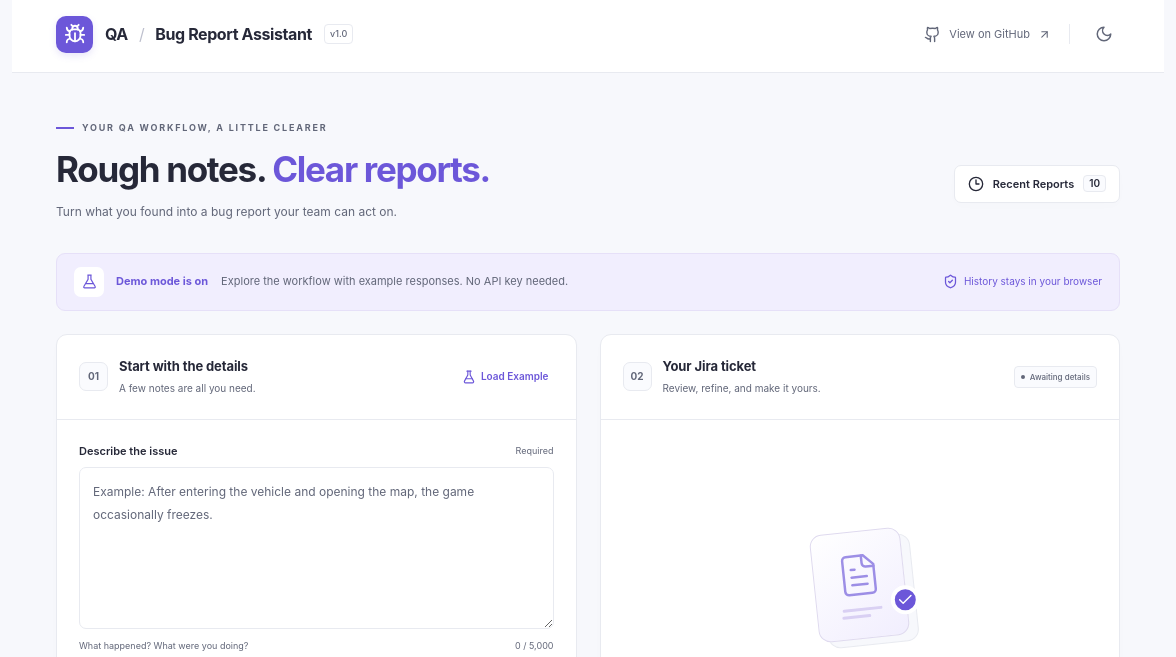
report workflow › retains at most ten reports after generation
Click the button "Load Example". click: (505, 377)
box: [457,364,554,389]
(page scrolled)
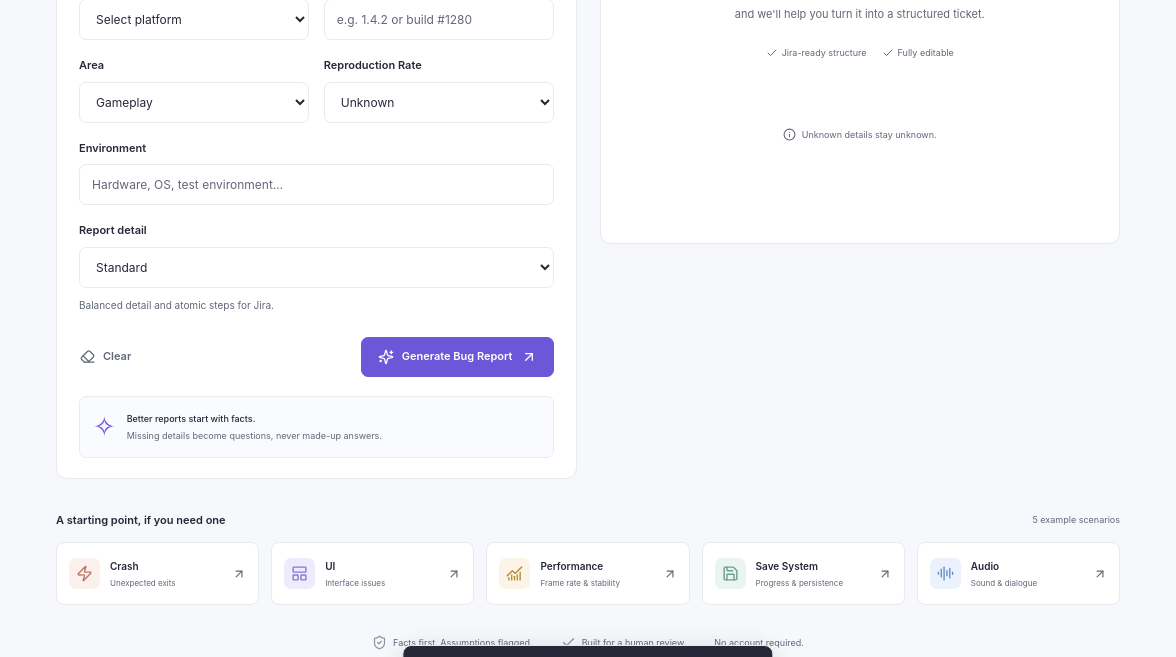
Click the button "Generate Bug Report". click: (457, 357)
box: [361,337,554,377]
(page scrolled)
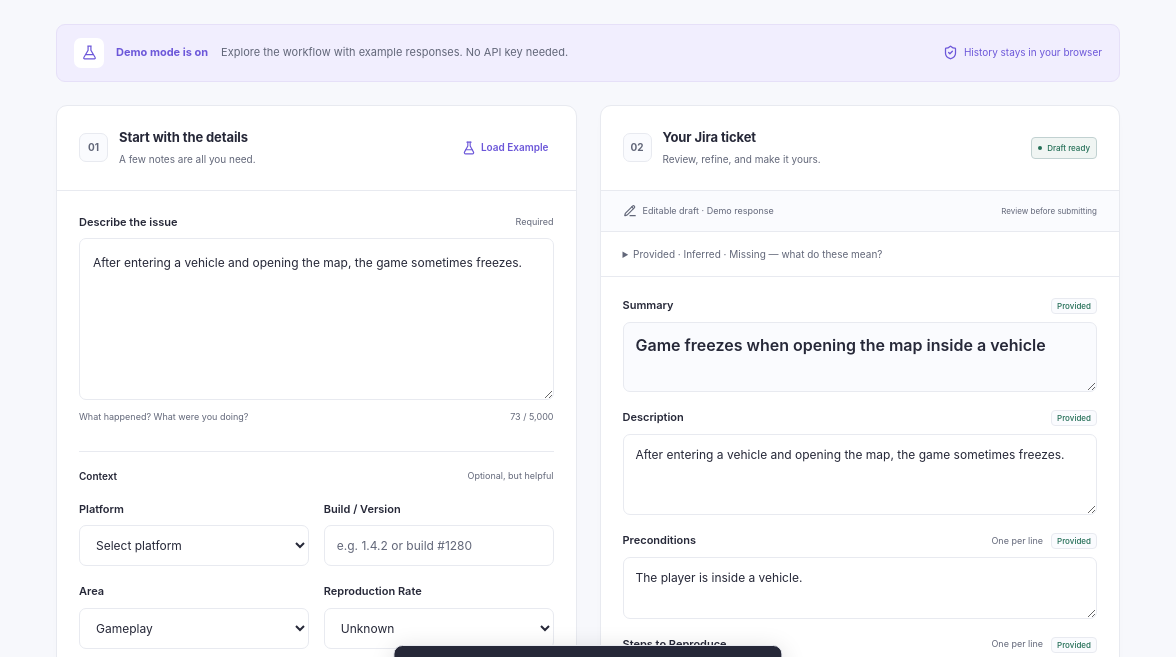
expect the text box showing "Game freezes when opening the map inside a vehicle" is shown: met, box [622,322,1097,392]
